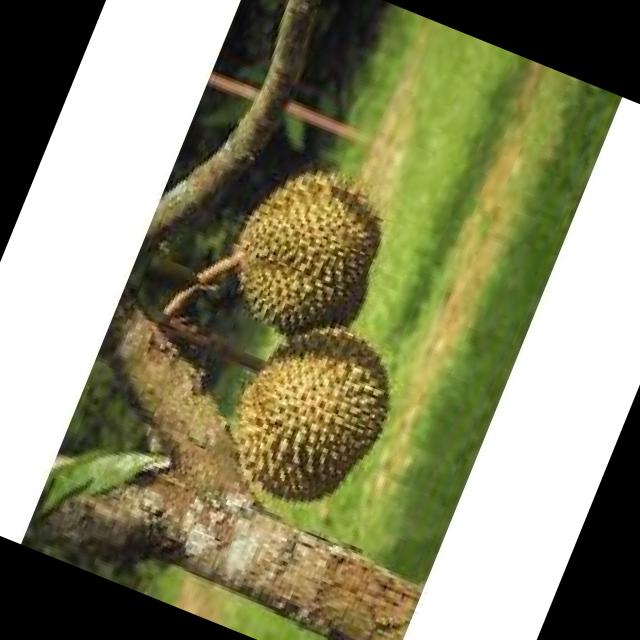fruit: (174, 114, 431, 386), (177, 274, 429, 544)
